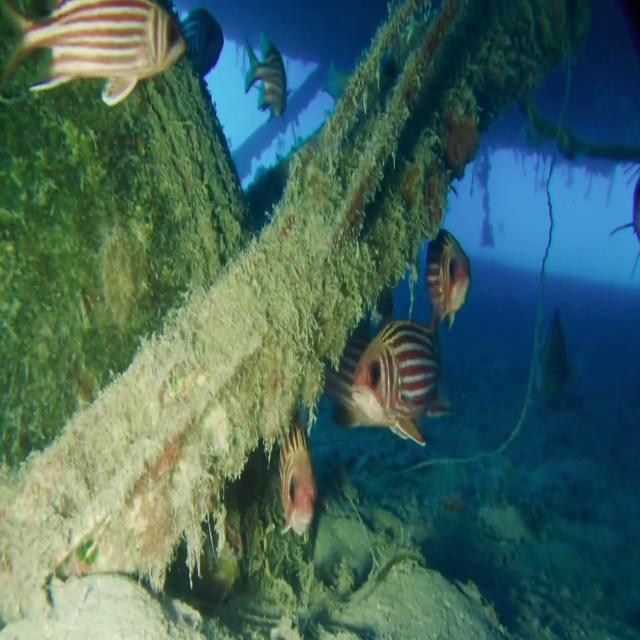Asker Baligi: (5, 0, 203, 132), (357, 316, 450, 466), (418, 221, 474, 332)
